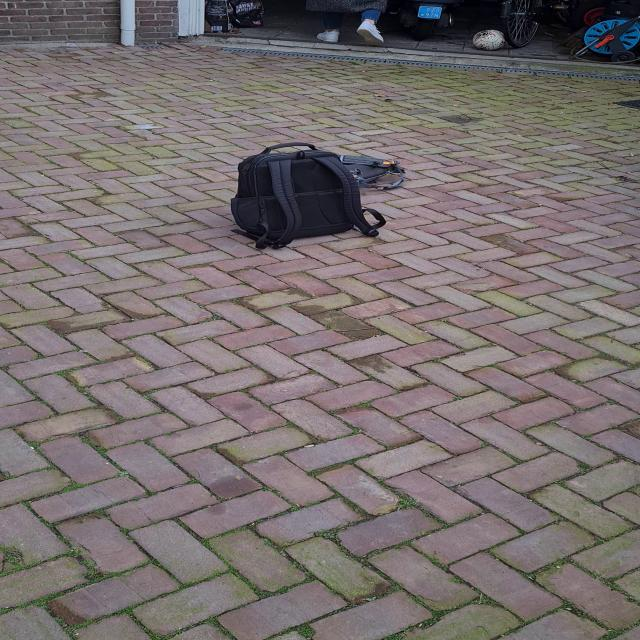backpack: (224, 140, 374, 249), (327, 153, 408, 190)
